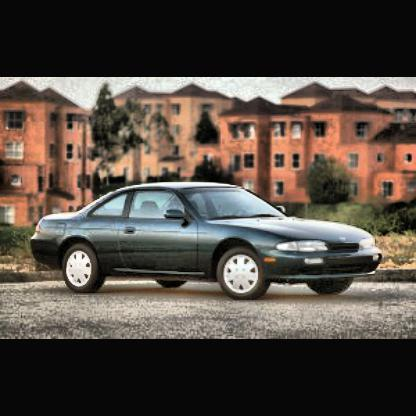Nissan 240SX Coupe 1998: (32, 176, 389, 307)
